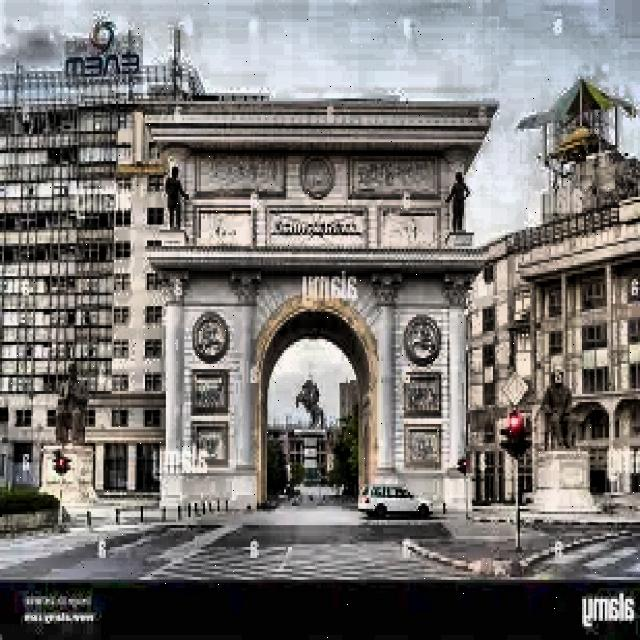triumphal arch: (145, 106, 498, 514)
